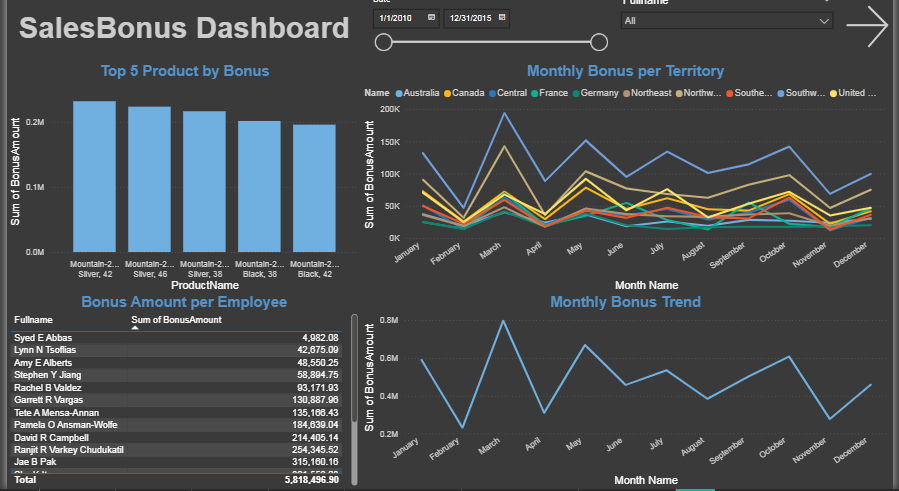

This screenshot's page, from the dashboard's own definition file:
{"tool":"powerbi","page":{"name":"Page 1","canvas":[1280,720],"ordinal":0},"visuals":[{"type":"lineChart","title":"Monthly Bonus Trend","fields":{"Y":["Sum(FactSalesOrderHeader.BonusAmount)"],"Category":["DimDateTable.Month Name"]},"box":[512.1,437.9,765.5,282.8],"z":0},{"type":"tableEx","title":"Bonus Amount per Employee","fields":{"Values":["DimSalesSalesPerson.Fullname","Sum(FactSalesOrderHeader.BonusAmount)"]},"box":[0,438.4,512.3,282.2],"z":1000},{"type":"lineChart","title":"Monthly Bonus per Territory","fields":{"Category":["DimDateTable.Month Name"],"Y":["Sum(FactSalesOrderHeader.BonusAmount)"],"Series":["DimSalesSalesTerritory.Name"]},"box":[512.1,103.4,765.5,334.5],"z":2000},{"type":"clusteredColumnChart","title":"Top 5 Product by Bonus","fields":{"Category":["DimProductionProduct.ProductName"],"Y":["Sum(FactSalesOrderHeader.BonusAmount)"]},"box":[0,104.1,514,334.3],"z":3000},{"type":"slicer","fields":{"Values":["DimDateTable.Date"]},"box":[516.7,0,361.1,103.7],"z":4000},{"type":"textbox","box":[0,24.1,513,79.6],"z":5000},{"type":"slicer","fields":{"Values":["DimSalesSalesPerson.Fullname"]},"box":[876.9,0,326.9,103.8],"z":6000},{"type":"actionButton","box":[1205.8,0,75,103.8],"z":10000}]}

Visuals, with their boxes in screenshot pixels (x1, y1, x2, y2), scaled from the page's 1280x720 canvas onto the 899x491 screenshot:
"Monthly Bonus Trend" lineChart: {"left": 360, "top": 299, "right": 897, "bottom": 490}
"Bonus Amount per Employee" tableEx: {"left": 0, "top": 299, "right": 360, "bottom": 490}
"Monthly Bonus per Territory" lineChart: {"left": 360, "top": 71, "right": 897, "bottom": 299}
"Top 5 Product by Bonus" clusteredColumnChart: {"left": 0, "top": 71, "right": 361, "bottom": 299}
slicer - DimDateTable.Date: {"left": 363, "top": 0, "right": 617, "bottom": 71}
textbox: {"left": 0, "top": 16, "right": 360, "bottom": 71}
slicer - DimSalesSalesPerson.Fullname: {"left": 616, "top": 0, "right": 845, "bottom": 71}
actionButton: {"left": 847, "top": 0, "right": 898, "bottom": 71}
